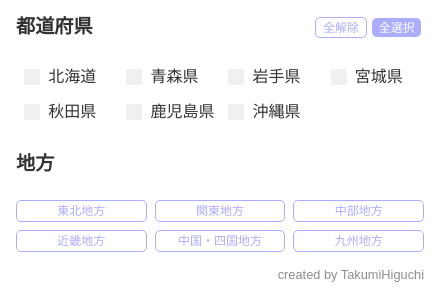
Scenario: oragnisms/Sidebarのテスト › 全解除ボタンをクリック時に全てのチェックボックスが未チェック状態になること
This screenshot has width=441, height=299.
Step 1. Click the button "全選択" → point(397, 28), box [372,18,421,37]
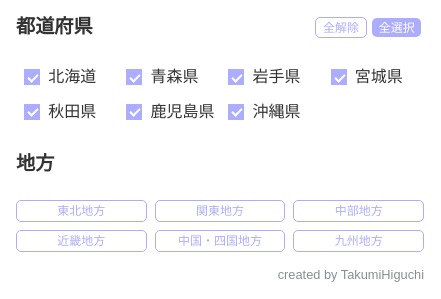
Check: the checkbox labelled "北海道" is checked, box [16,60,101,94]
Check: the checkbox labelled "青森県" is checked, box [118,60,203,94]
Check: the checkbox labelled "岩手県" is checked, box [220,60,306,94]
Step 2. Click the button "全解除" → point(341, 28), box [315,17,367,38]
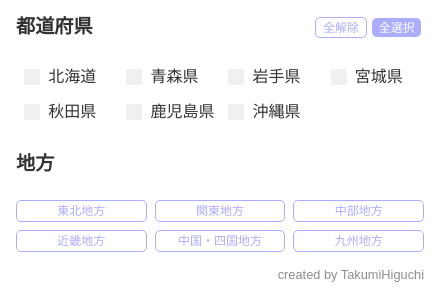
Check: the checkbox labelled "北海道" is not checked, box [16,60,101,94]
Check: the checkbox labelled "青森県" is not checked, box [118,60,203,94]
Check: the checkbox labelled "岩手県" is not checked, box [220,60,306,94]
